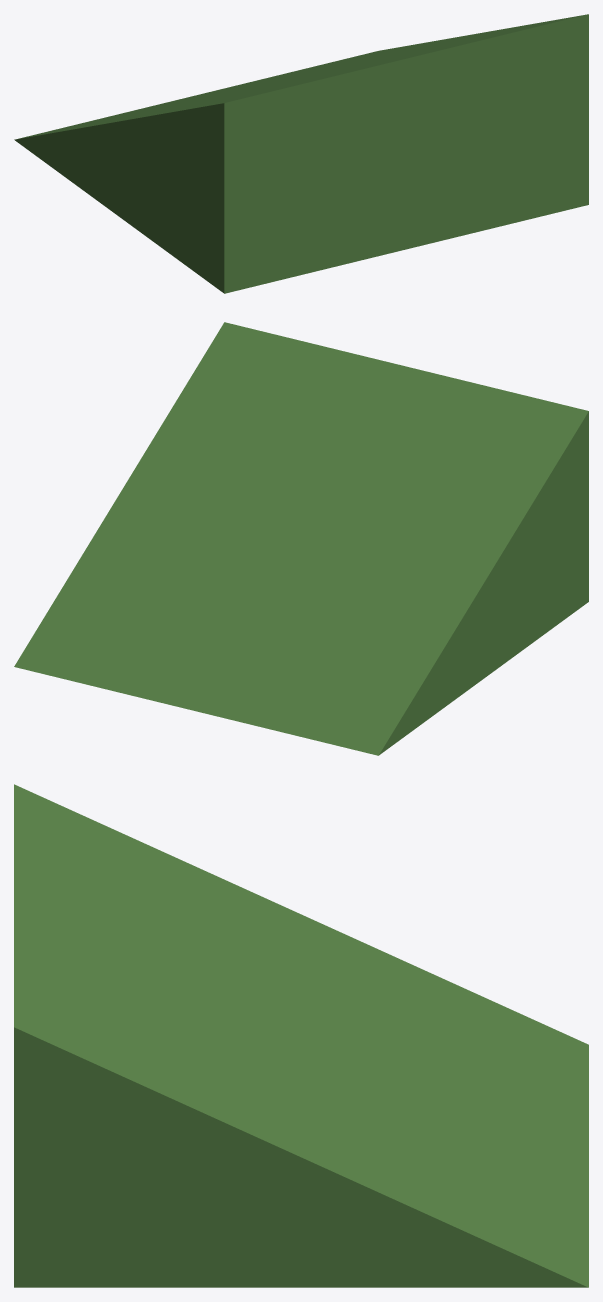
The model's file is terrain-grass-slope.lod0.glb.
The picture shows the model from 3 angles, top to bottom: view 1: azimuth 30°, elevation 25°; view 2: azimuth 150°, elevation 25°; view 3: azimuth 270°, elevation 25°; orthographic projection. The views are drawn at different scales.
Visible parts, largest first — view 1: terrain-grass-slope__body; view 2: terrain-grass-slope__body; view 3: terrain-grass-slope__body.
Boxes of the visible parts, box(x1,y1,x2,y2) form: terrain-grass-slope__body: box(14, 14, 588, 293); terrain-grass-slope__body: box(14, 322, 588, 755); terrain-grass-slope__body: box(14, 784, 588, 1287).
Size of the model in its own units: 2 by 1 by 2.
